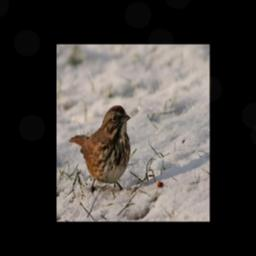Sparrow: (68, 103, 130, 194)
